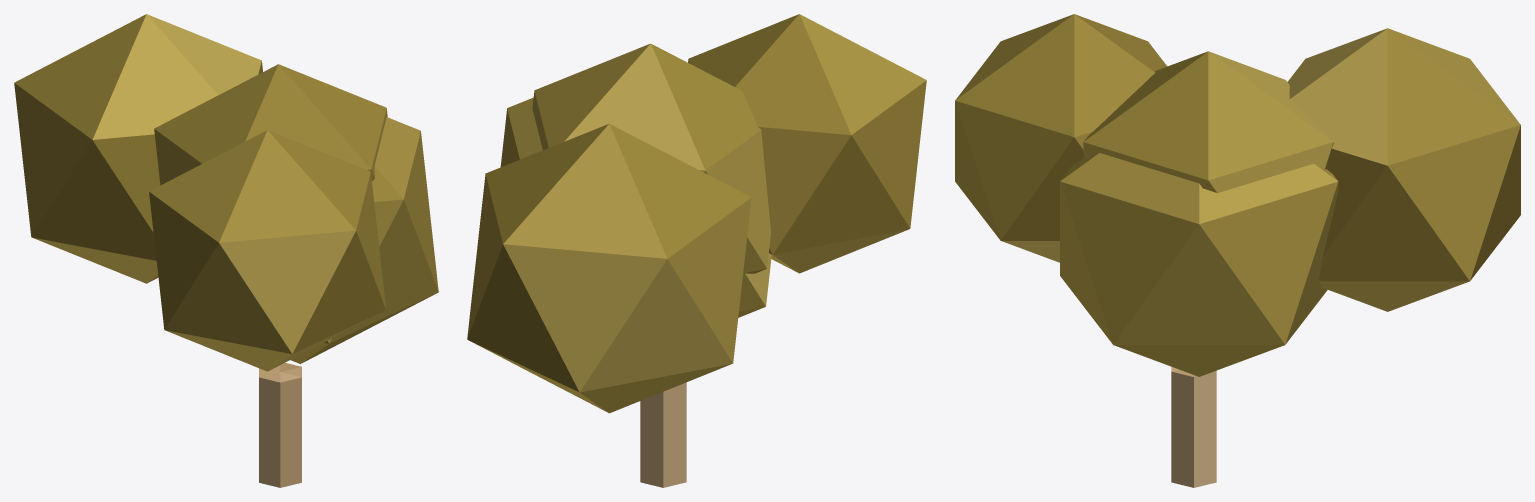
File: WildPlant_c.fbx
3 views of the same model, side by side, from view 1: azimuth 30°, elevation 25°; view 2: azimuth 150°, elevation 25°; view 3: azimuth 270°, elevation 25° (orthographic). The views are drawn at different scales.
Parts seen in each view (by area): view 1: WildPlant_c; view 2: WildPlant_c; view 3: WildPlant_c.
Boxes of the visible parts, bbox=[...] form: WildPlant_c: bbox=[14, 14, 438, 487]; WildPlant_c: bbox=[467, 14, 926, 487]; WildPlant_c: bbox=[955, 14, 1520, 487].
Size of what is drawn, in the model's own units: 0.4394 by 0.5409 by 0.6478.
